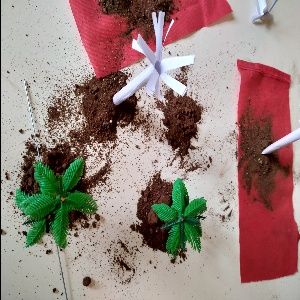plant: (13, 155, 97, 247), (149, 176, 208, 258)
weed: (92, 11, 197, 103), (254, 118, 300, 162), (245, 1, 287, 28)
